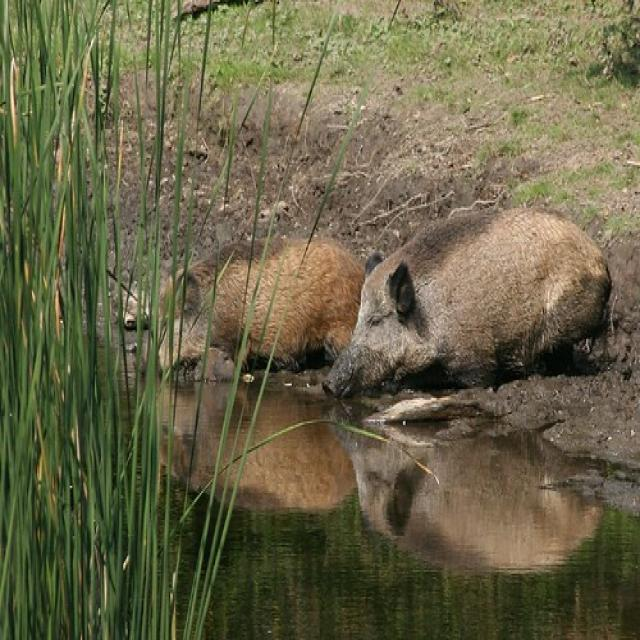boar: (314, 208, 630, 423), (126, 232, 388, 383)
